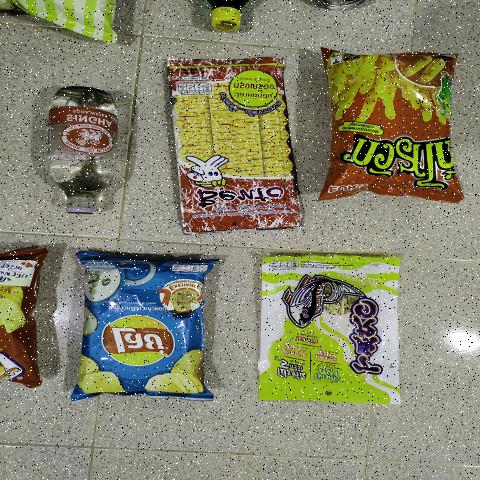bento_red: (177, 55, 292, 236)
lay_blue: (75, 257, 220, 396)
singha_soda: (46, 85, 120, 219)
taro_yellow: (262, 257, 399, 400)
twisco: (333, 54, 454, 192)
